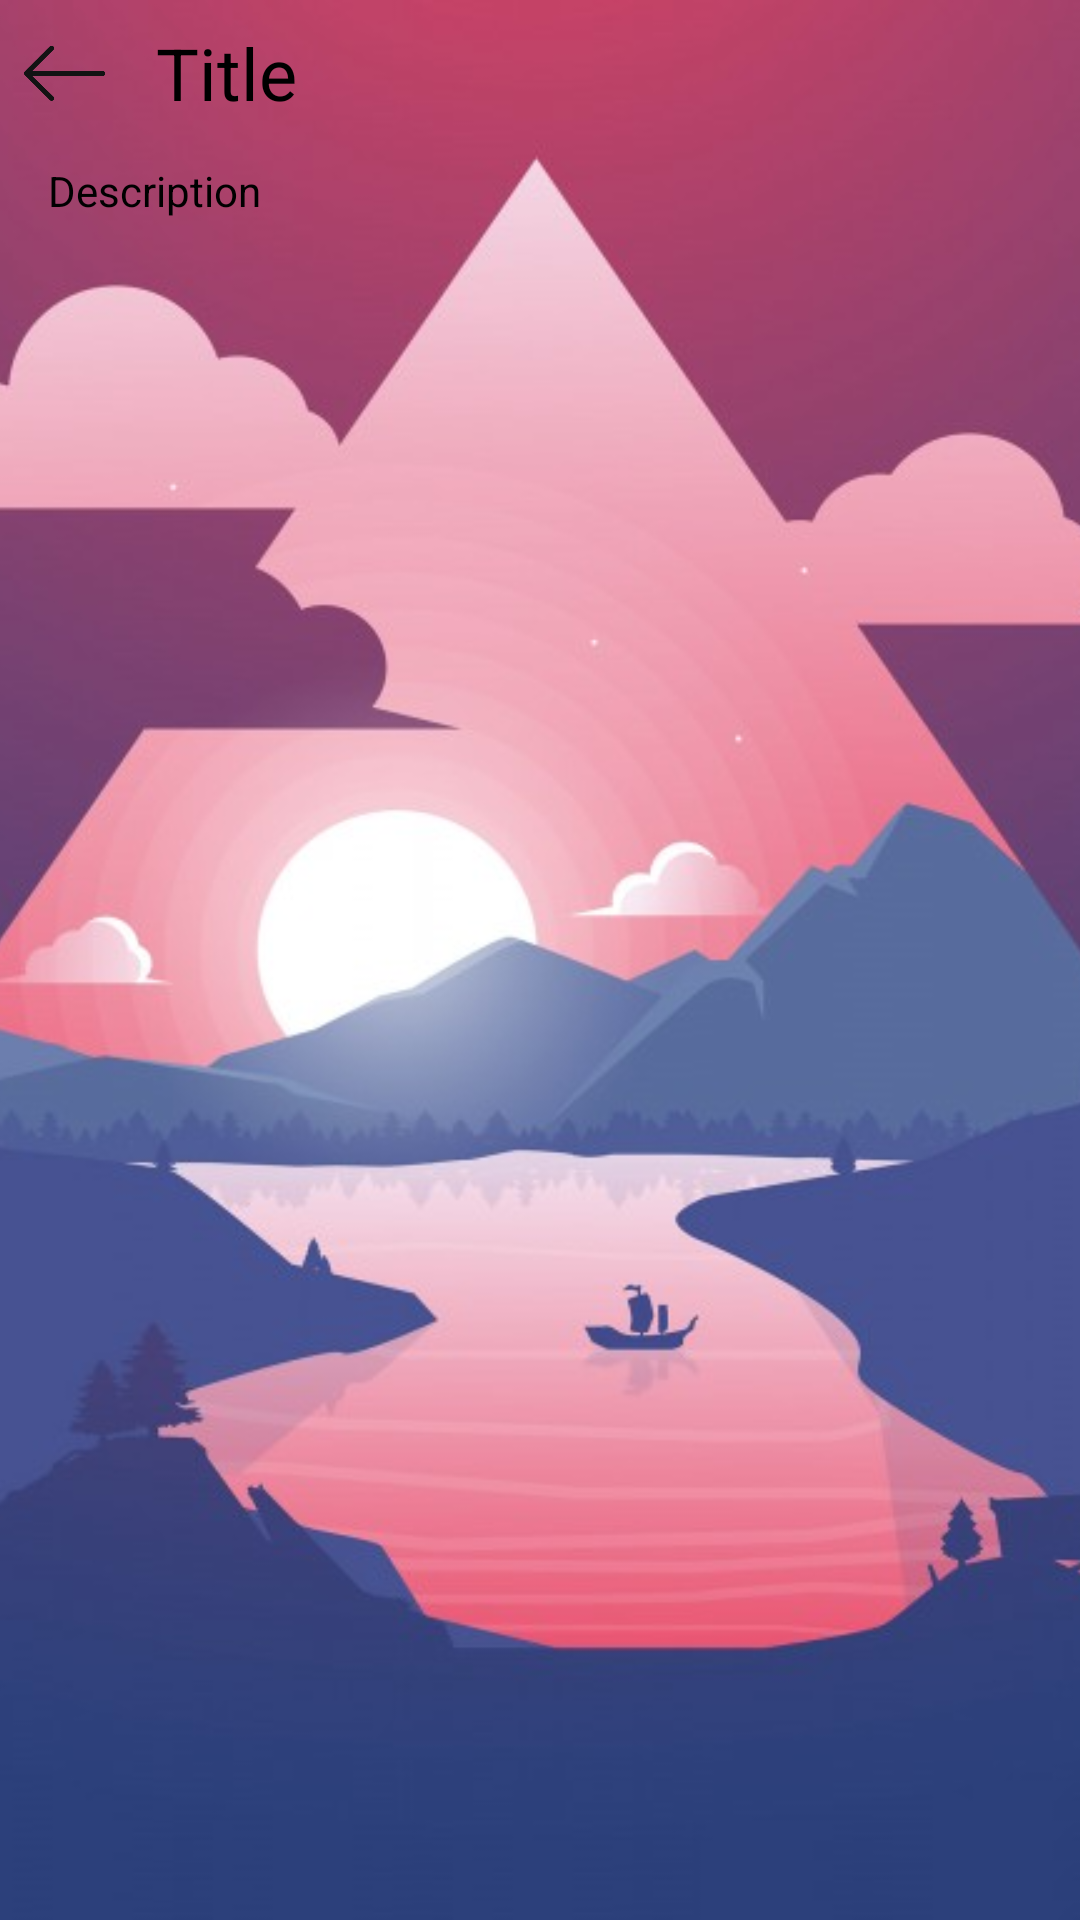

Icons on this 1080w x 1920h Android screen, each with the point to tap as point (x, y):
back: point (64, 73)
